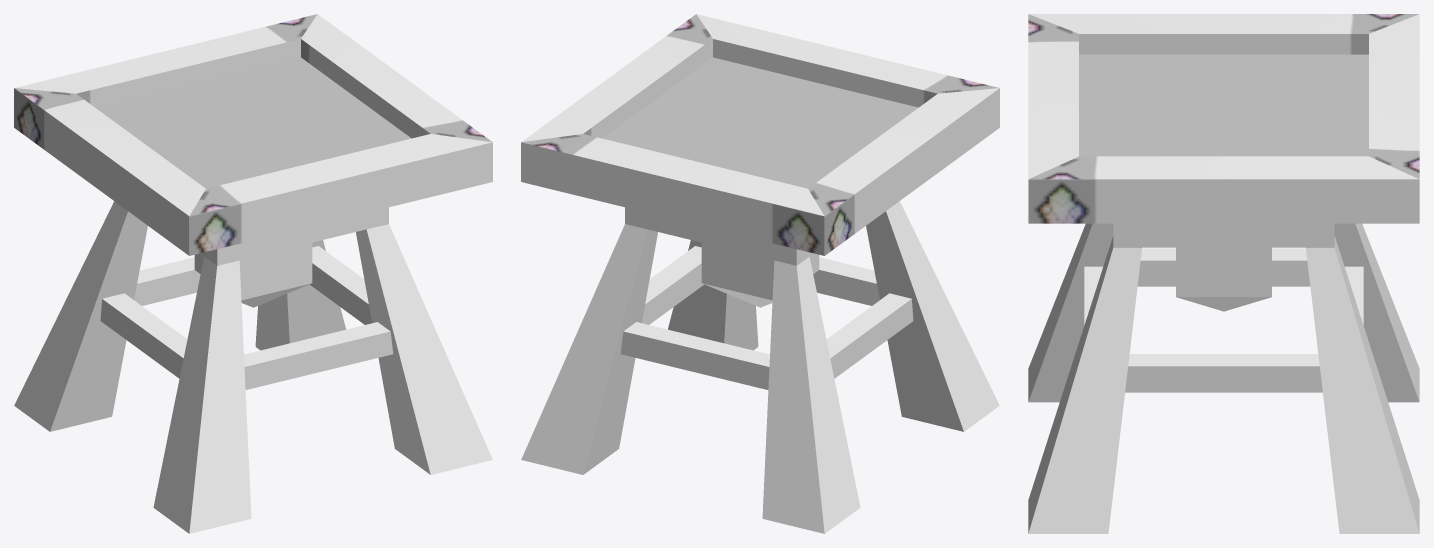
Rendered from radiant_resonator.obj.
3 renders of one model, left to right at view 1: azimuth 30°, elevation 25°; view 2: azimuth 150°, elevation 25°; view 3: azimuth 270°, elevation 25°, orthographic. The views are drawn at different scales.
Visible parts, largest first — view 1: Bowl, Legs, BarsPlane, Crossbars, GoldRing; view 2: Bowl, Legs, BarsPlane, Crossbars, GoldRing; view 3: Bowl, Legs, BarsPlane, Crossbars, GoldRing.
Part boxes in pixels (left/top/right/bottom): Bowl: left=14, top=14, right=492, bottom=307; Legs: left=14, top=201, right=492, bottom=533; BarsPlane: left=95, top=57, right=411, bottom=188; Crossbars: left=100, top=246, right=393, bottom=389; GoldRing: left=200, top=207, right=388, bottom=265; Bowl: left=521, top=14, right=999, bottom=307; Legs: left=521, top=201, right=999, bottom=533; BarsPlane: left=602, top=57, right=918, bottom=188; Crossbars: left=620, top=246, right=913, bottom=389; GoldRing: left=625, top=207, right=813, bottom=265; Bowl: left=1028, top=14, right=1419, bottom=311; Legs: left=1028, top=223, right=1419, bottom=533; BarsPlane: left=1079, top=54, right=1368, bottom=156; Crossbars: left=1084, top=248, right=1363, bottom=392; GoldRing: left=1113, top=223, right=1334, bottom=247.
Size of the model in its own units: 1 by 1 by 1.
